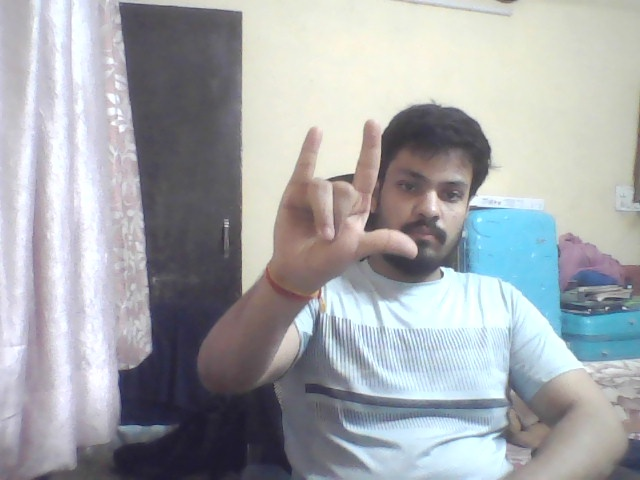I Love You: (261, 107, 444, 312)
